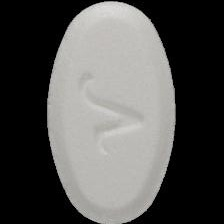49349-787: (0, 0, 224, 224)
